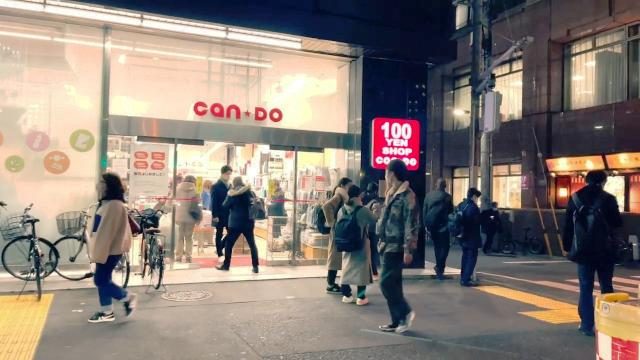berdiri: (564, 169, 638, 345), (322, 179, 374, 303), (458, 190, 492, 284)
berjalan: (81, 161, 145, 325), (376, 160, 430, 334), (212, 174, 270, 274)
